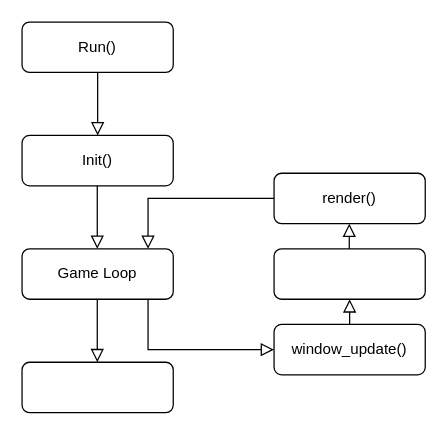
The diagram is 447 pixels wide and 435 high, and some of its shapes have lost their labels. The shapes that lost their labels are listed below. From the top down, each one's centre as x and y in pixels, then its label:
At point 349,273: "update()".
At point 97,387: "cleanup()".
